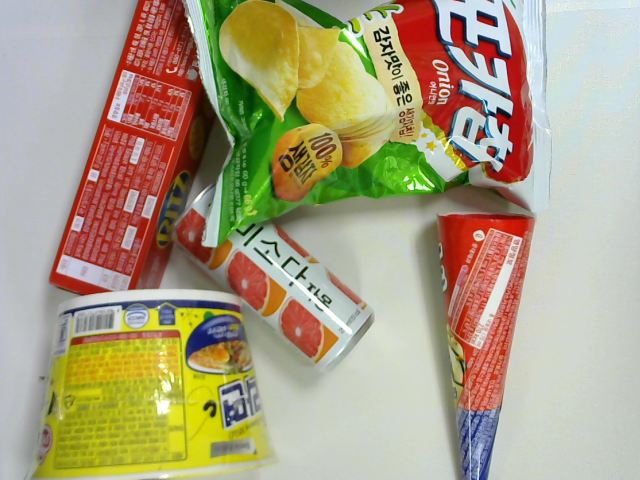Demisoda_Grapefruit_Can_250ml: (160, 175, 378, 376)
Jinlamyeon_Mild_Taste_Large_Cup: (26, 287, 278, 480)
Pocachip_Onion: (179, 1, 565, 250)
Ritz_Cracker: (44, 1, 236, 315)
World_Cone_Banila: (427, 205, 539, 480)
